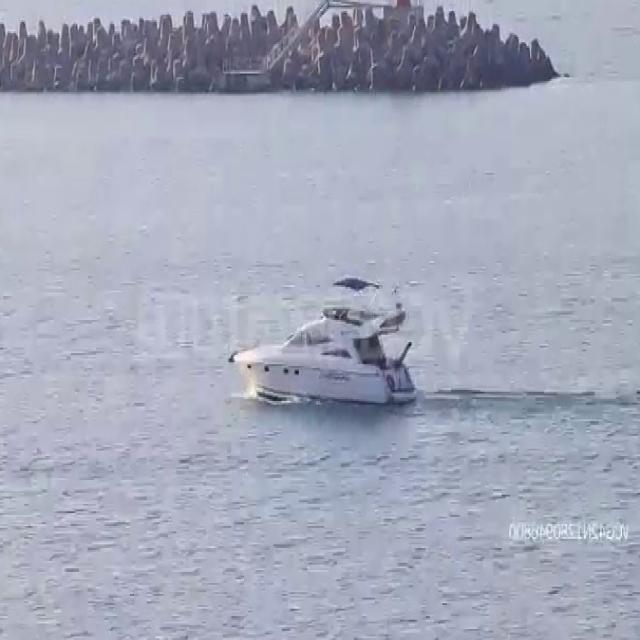houseboat: (226, 271, 421, 412)
